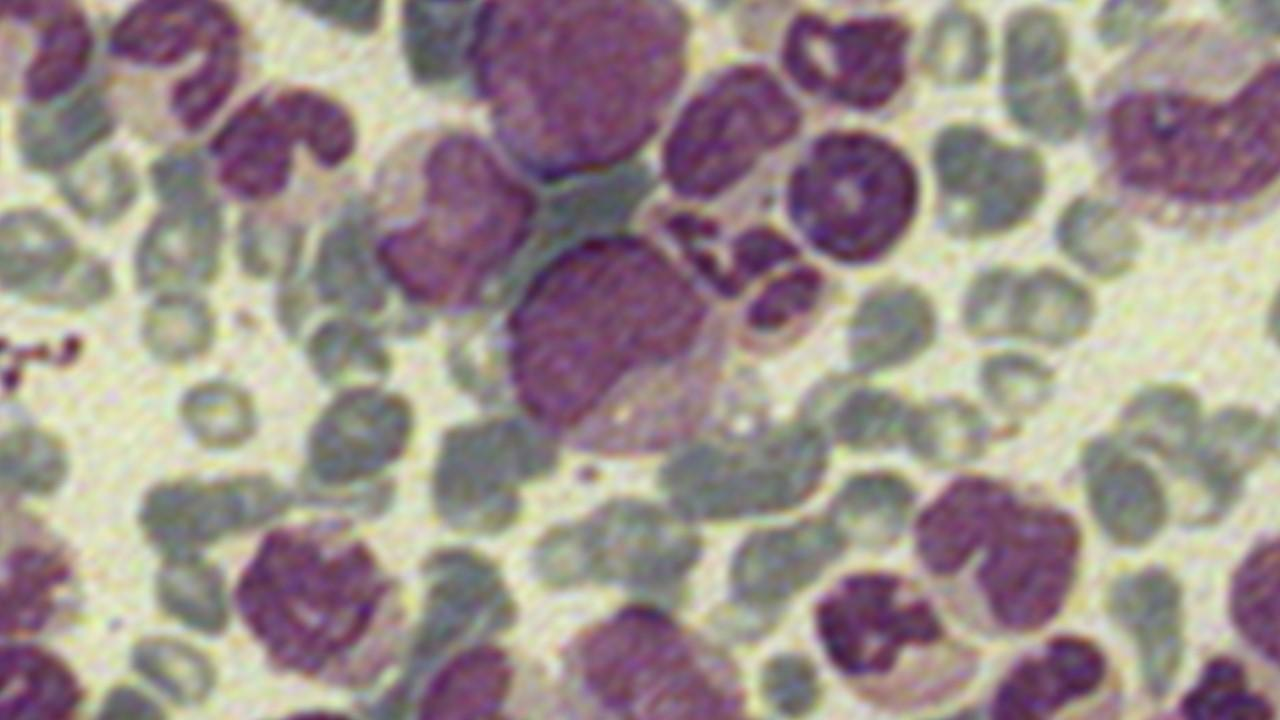RBC: (778, 124, 927, 270), (172, 369, 268, 461), (0, 198, 79, 300)
